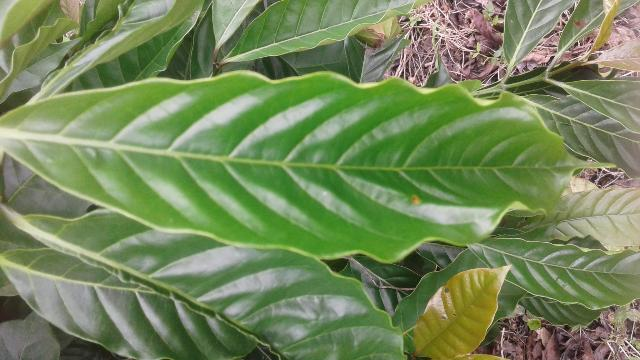rust_level_1: (0, 73, 615, 260)
